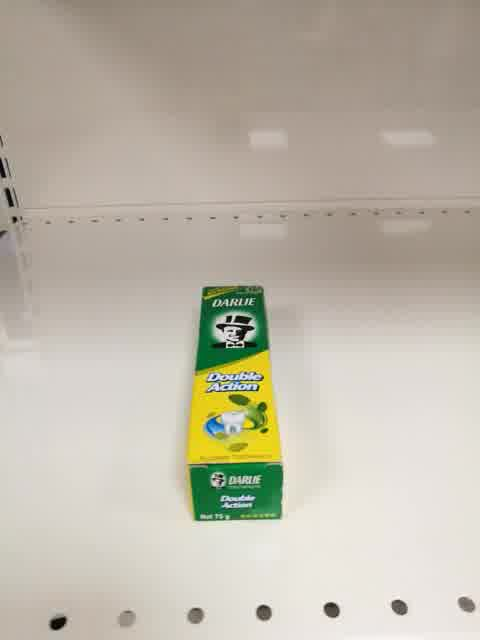toothpaste: (185, 286, 285, 523)
